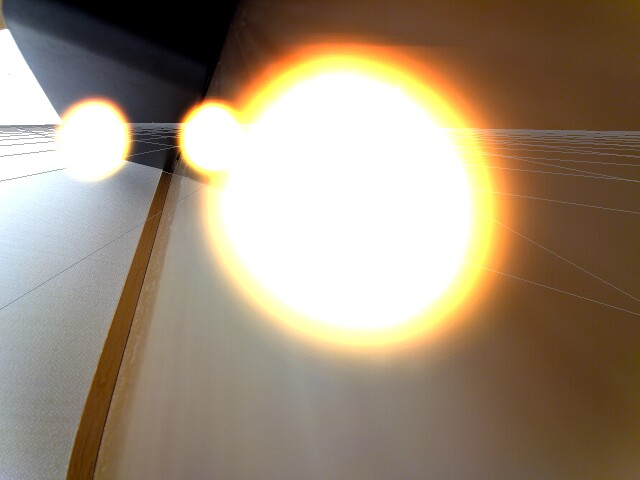firebig: (249, 35, 499, 366)
